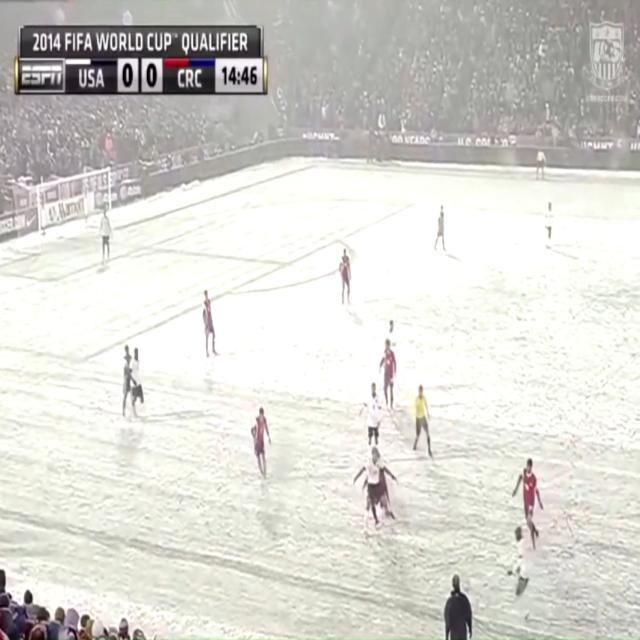goalkeeper: (95, 202, 115, 270)
player: (513, 454, 553, 550), (506, 527, 538, 624), (250, 408, 274, 485), (360, 378, 386, 449), (200, 286, 222, 369), (334, 243, 357, 313), (116, 339, 136, 419), (368, 448, 385, 528), (433, 199, 454, 261), (130, 345, 146, 423), (383, 337, 399, 414), (385, 320, 402, 369), (542, 193, 556, 247)
referee: (414, 382, 434, 462), (531, 150, 550, 183)
